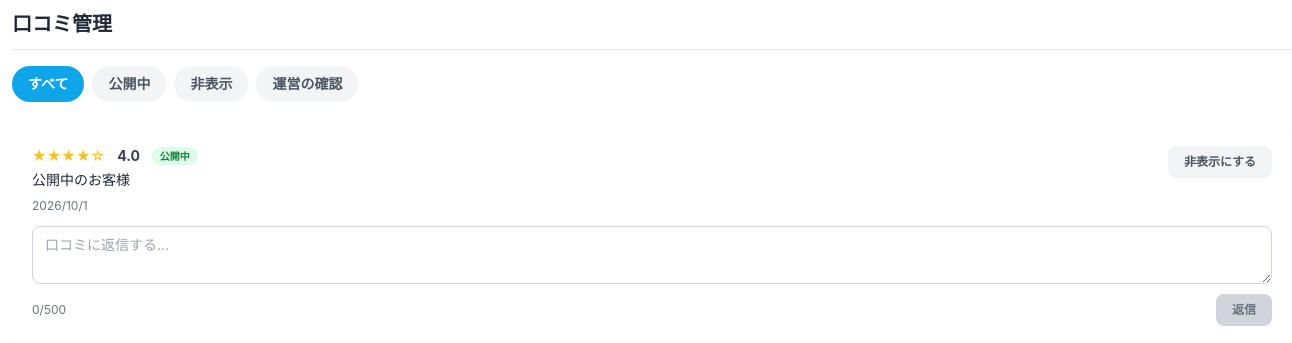
公開・非表示の切り替え › 更新に失敗したら『更新に失敗しました』
This screenshot has width=1292, height=343.
Click the button "非表示にする": (1220, 162) [1168,146,1272,178]
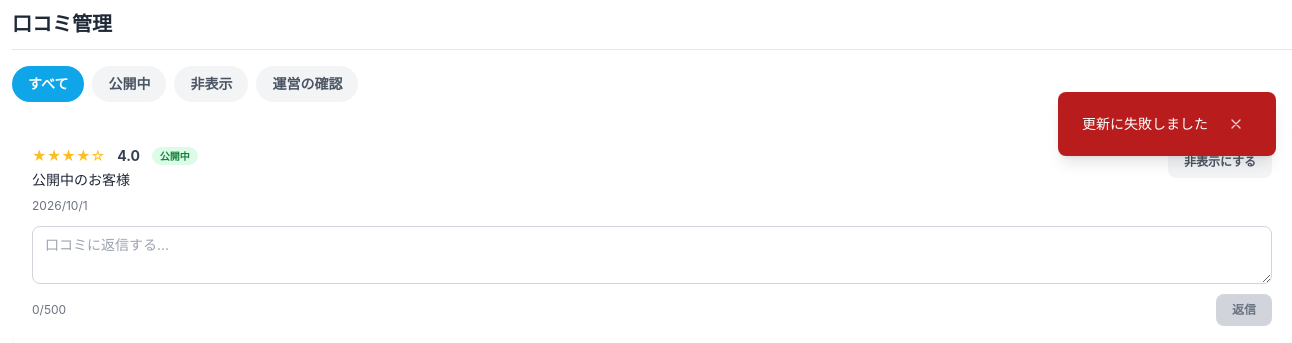
Result: the text "更新に失敗しました" is shown at [1082,114,1208,134]
